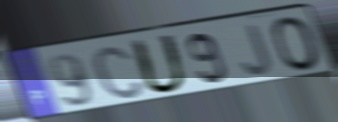9: (47, 51, 96, 108), (187, 32, 226, 85)
C: (88, 43, 148, 101)
J: (239, 22, 274, 77)
O: (269, 14, 324, 73)
U: (127, 32, 190, 96)
